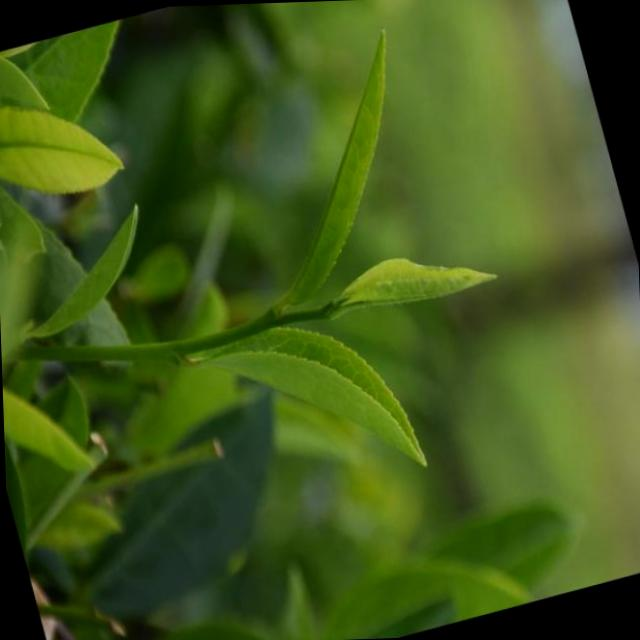Stem: (250, 308, 277, 333)
